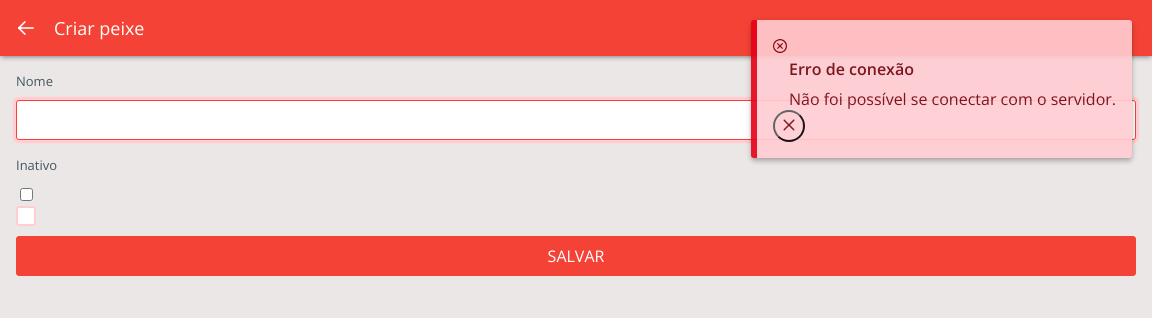
FishCrud › FishForm › should display errors when saving ilegal form
Step 1. Click the button with test id "save" → (576, 256), box [16,236,1136,276]
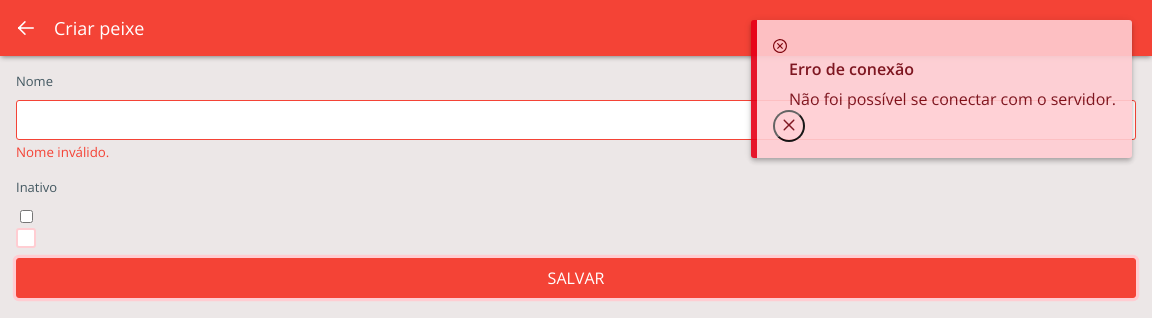
Expected: the text "Nome inválido." is shown, [16,143,109,161]
